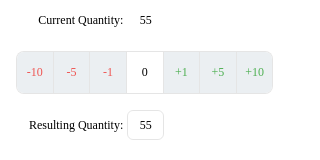
Test: QuantitySelector › formats negative and positive delta values in the input
The image size is (320, 160).
Click the button named "Subtract 5". click: point(71, 72)
box: [54, 52, 89, 93]
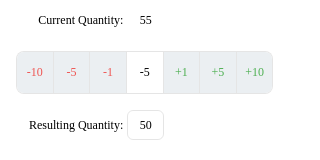
Result: the field showing "-5" is shown
Clear the field showing "-5". click: point(145, 72)
box: [127, 58, 162, 88]
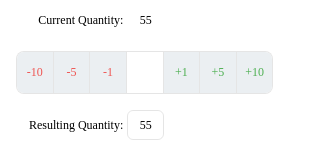
Click the button named "Add 5". click: point(218, 72)
box: [200, 52, 236, 93]
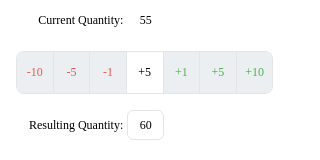
Result: the field showing "+5" is shown at [127, 58, 162, 88]
